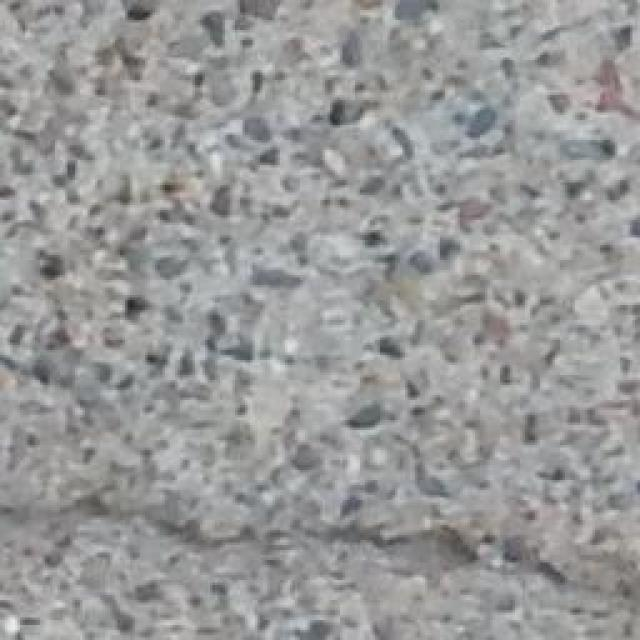concrete-crack: (7, 491, 637, 618)
